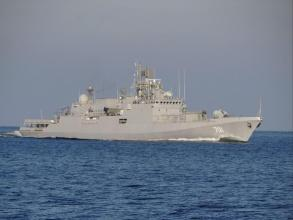warship: (11, 61, 273, 141)
